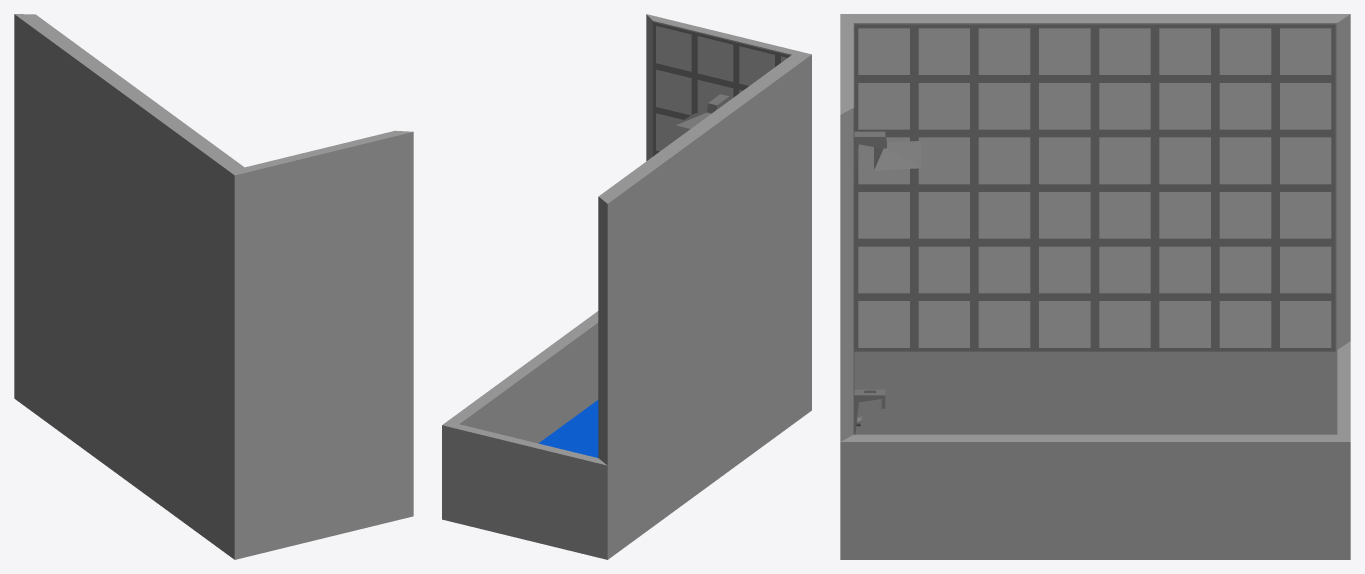
File: Bath.fbx
3 views of the same model, side by side, from view 1: azimuth 30°, elevation 25°; view 2: azimuth 150°, elevation 25°; view 3: azimuth 270°, elevation 25° (orthographic). The views are drawn at different scales.
Parts seen in each view (by area): view 1: LaundrySink; view 2: LaundrySink; view 3: LaundrySink.
Part boxes in pixels (bbox=[...]): LaundrySink: bbox=[14, 14, 413, 559]; LaundrySink: bbox=[442, 14, 811, 559]; LaundrySink: bbox=[840, 14, 1350, 559].
Bounding box in the file's own units: 428 × 878 × 913.
